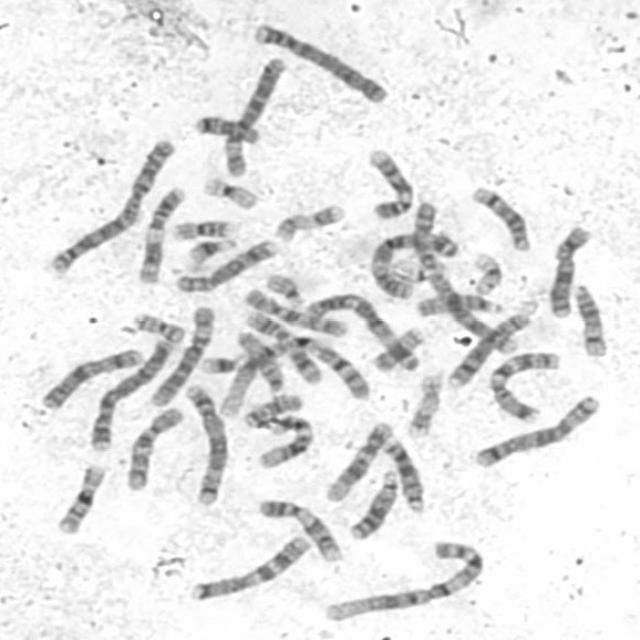A1: (317, 535, 488, 624), (216, 330, 374, 419)
A2: (407, 192, 526, 359), (46, 133, 180, 275)
A3: (298, 288, 421, 372), (366, 226, 462, 299)
B4: (247, 18, 391, 104), (85, 333, 177, 452)
B5: (470, 389, 604, 469), (180, 379, 230, 507)
C10: (120, 400, 186, 493), (239, 284, 351, 338)
C11: (240, 304, 327, 385), (133, 180, 189, 285)
C12: (320, 416, 396, 503), (252, 409, 316, 470)
C6: (217, 50, 290, 180), (145, 298, 219, 408)
C7: (184, 530, 313, 603), (482, 344, 564, 424)
C8: (442, 308, 532, 389), (171, 234, 281, 294)
C9: (252, 493, 346, 564), (361, 144, 417, 222)
D13: (344, 466, 402, 542), (378, 433, 428, 514)
D14: (467, 180, 535, 252), (567, 277, 611, 359)
D15: (231, 327, 289, 396), (410, 288, 508, 319)
E16: (51, 458, 110, 536), (167, 214, 236, 241)
E17: (269, 198, 349, 244), (401, 366, 445, 439)
E18: (238, 388, 305, 428), (190, 110, 262, 145)
F19: (197, 171, 261, 211), (467, 247, 505, 296)
F20: (366, 321, 429, 373), (127, 307, 187, 343)
G21: (182, 233, 239, 264), (195, 349, 245, 375)
G22: (261, 268, 308, 308), (386, 253, 443, 284)
X: (36, 343, 146, 411), (542, 218, 594, 319)
